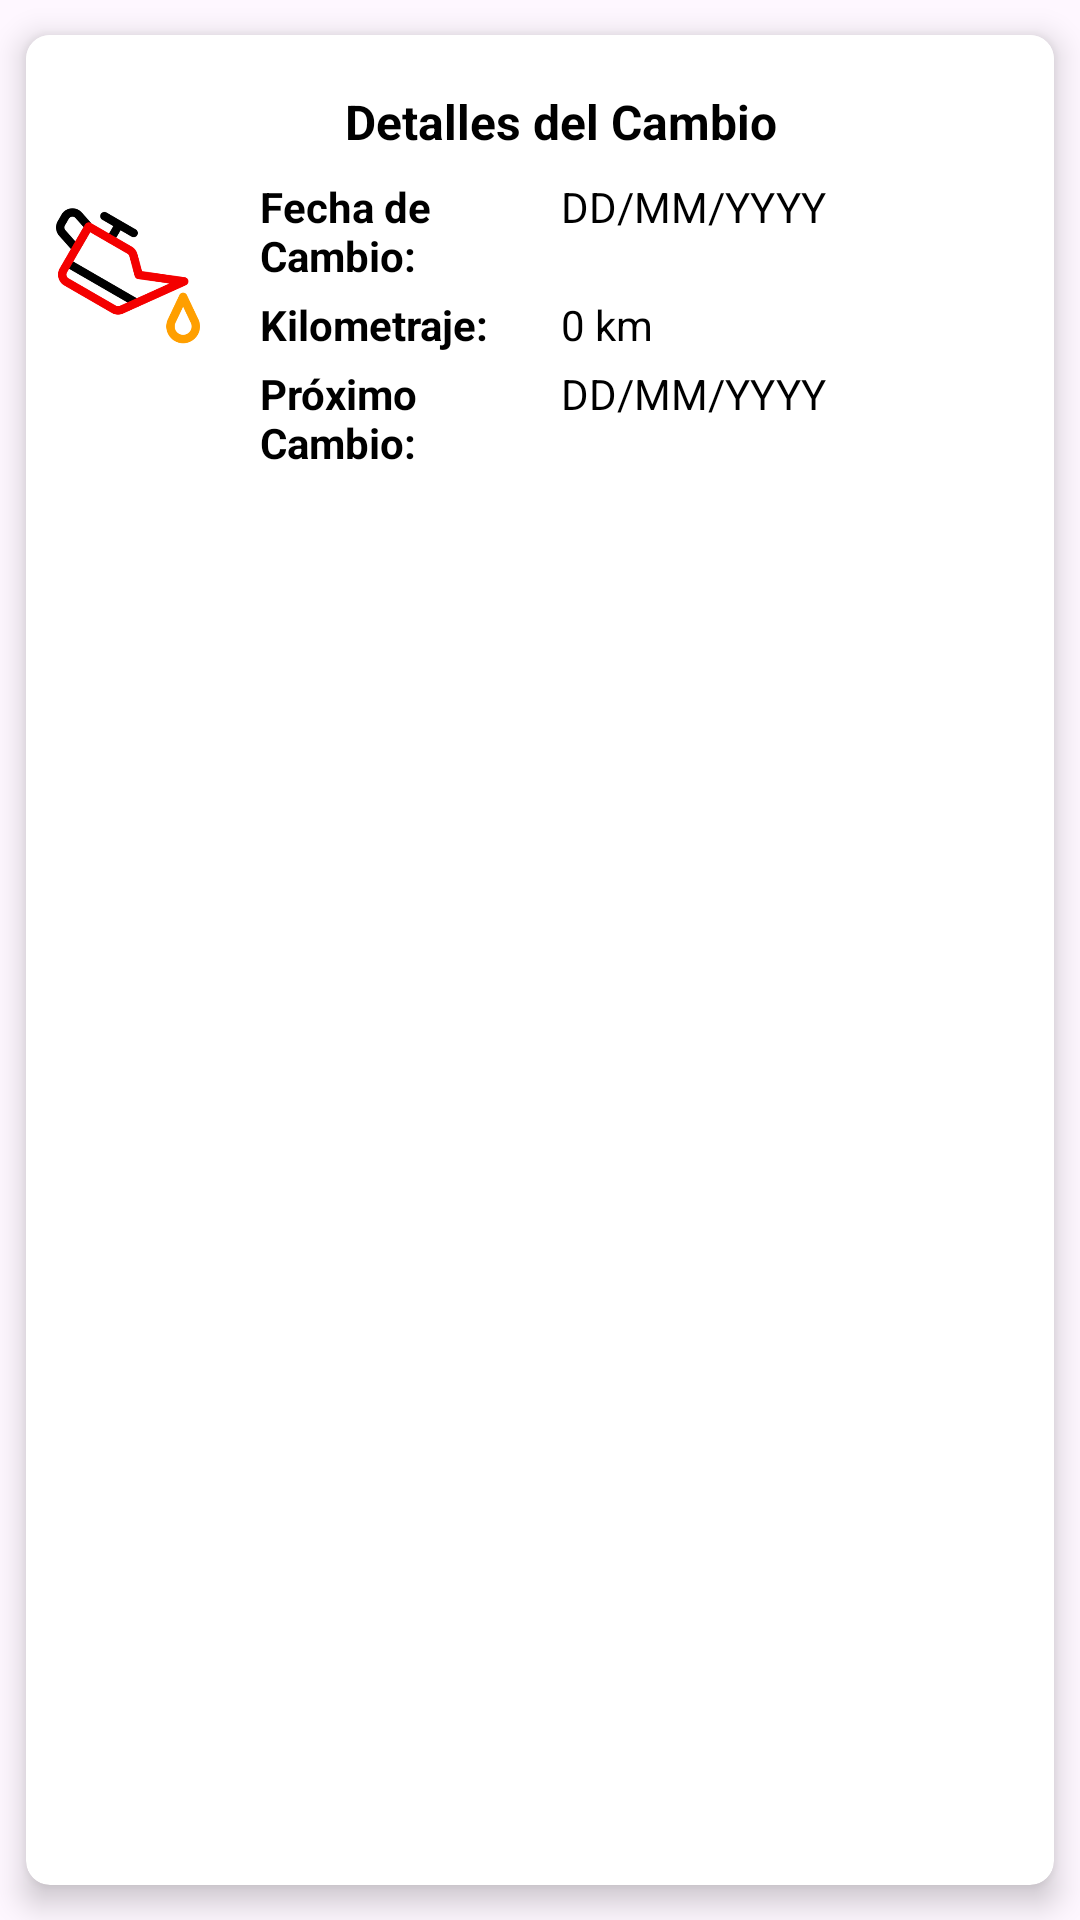

Point at icon controls on the screen. Image size 1080px x 1920px, points as (x,y).
oil: (128,276)
